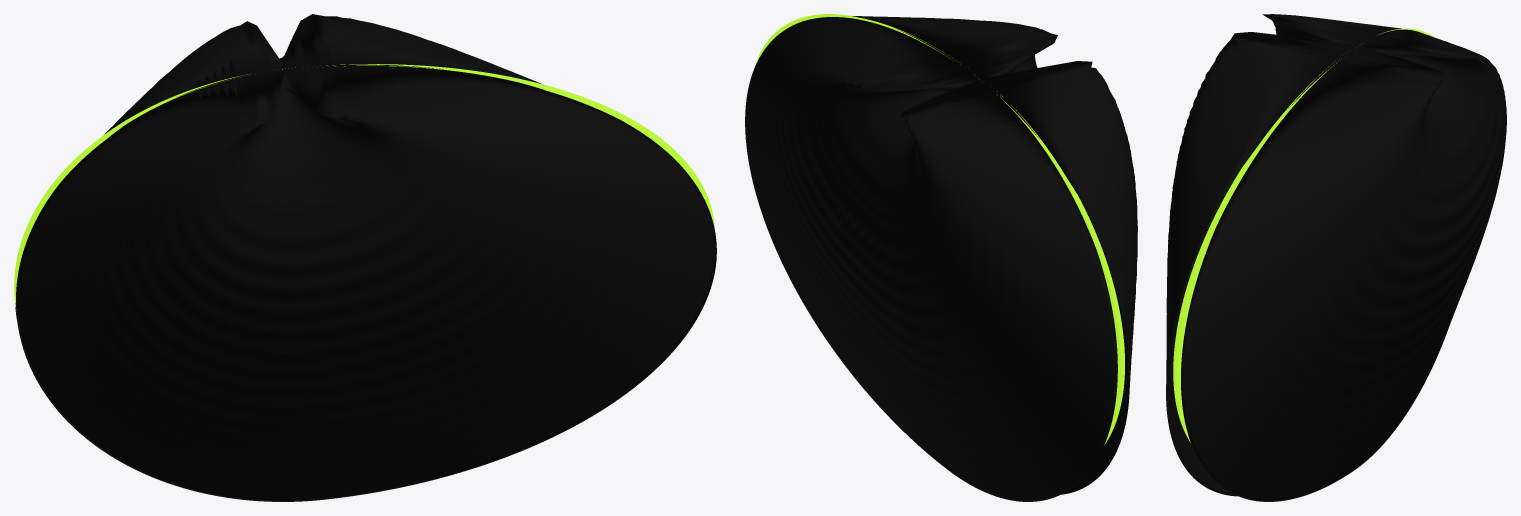
3 views of the same model, side by side, from view 1: azimuth 30°, elevation 25°; view 2: azimuth 150°, elevation 25°; view 3: azimuth 270°, elevation 25° (orthographic). The views are drawn at different scales.
Parts seen in each view (by area): view 1: valve_L, valve_R, flesh; view 2: valve_R, valve_L, flesh; view 3: valve_R, valve_L, flesh.
Boxes of the visible parts, left/top/right/bottom form: valve_L: left=16, top=66, right=716, bottom=501; valve_R: left=15, top=14, right=542, bottom=318; flesh: left=14, top=64, right=714, bottom=307; valve_R: left=745, top=17, right=1117, bottom=501; valve_L: left=852, top=16, right=1137, bottom=494; flesh: left=754, top=14, right=1124, bottom=445; valve_R: left=1181, top=29, right=1506, bottom=501; valve_L: left=1166, top=14, right=1401, bottom=496; flesh: left=1173, top=28, right=1434, bottom=442.
Bounding box in the file's own units: 1.36 × 1.01 × 0.7538.
